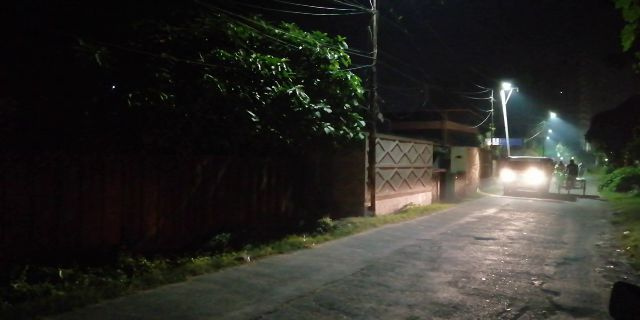Car: (504, 153, 553, 189)
